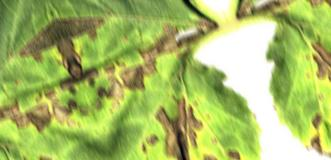Tomato leaf bacterial spot: (31, 0, 289, 160)
